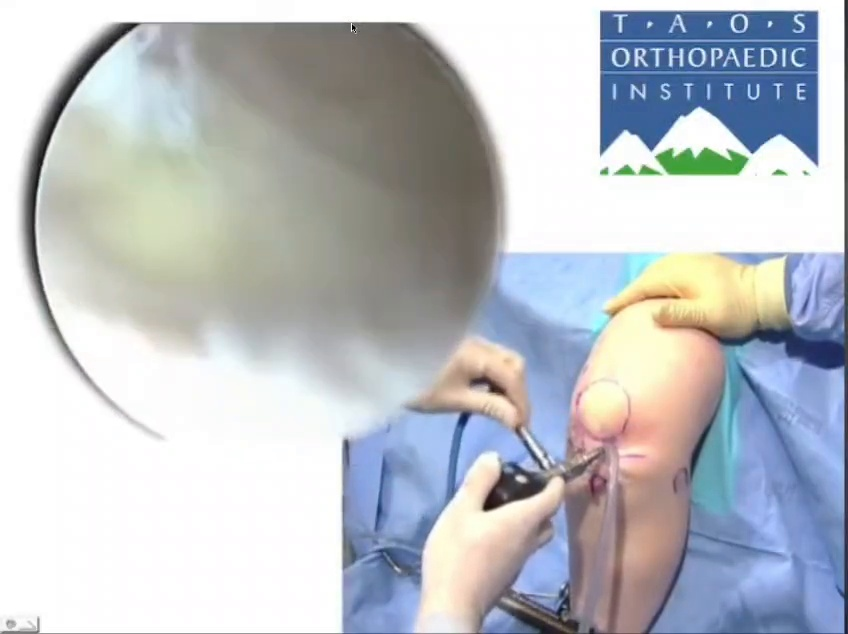probe: (734, 358, 823, 489)
